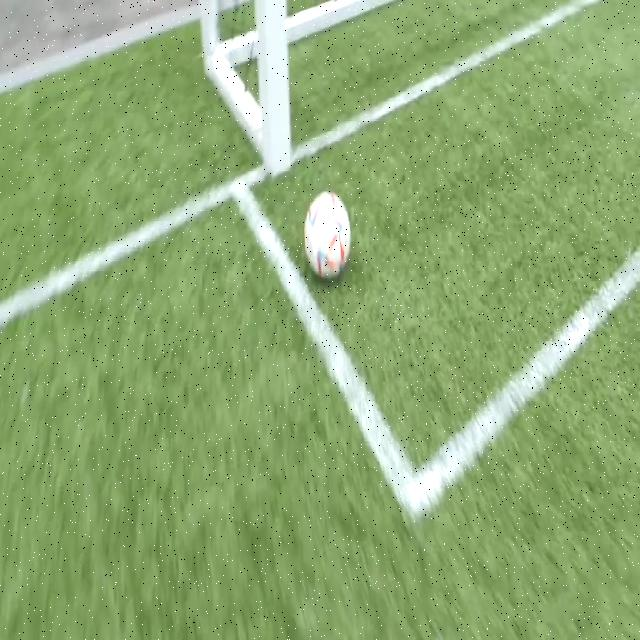ball: (304, 190, 351, 278)
goalpost: (253, 61, 302, 192)
